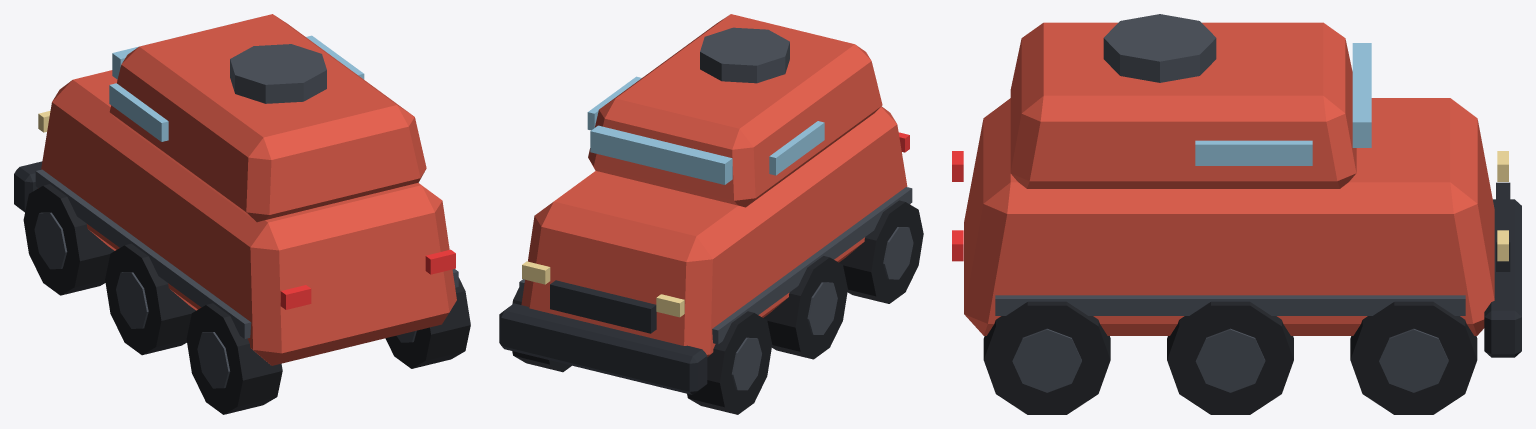
File: armored.glb
The picture shows the model from 3 angles, left to right: view 1: azimuth 30°, elevation 25°; view 2: azimuth 150°, elevation 25°; view 3: azimuth 270°, elevation 25°; orthographic projection. The views are drawn at different scales.
Visible parts, largest first — view 1: Body, Wheel_2L, Wheel_1L, Wheel_0L, Wheel_2R; view 2: Body, Wheel_2L, Wheel_1L, Wheel_0L, Wheel_0R; view 3: Body, Wheel_0R, Wheel_2R, Wheel_1R.
Part boxes in pixels (x1,y1,x2,y2): Body: (14, 14, 458, 365); Wheel_2L: (186, 303, 282, 414); Wheel_1L: (105, 243, 195, 355); Wheel_0L: (23, 184, 114, 295); Wheel_2R: (385, 277, 470, 368); Body: (499, 14, 912, 394); Wheel_2L: (839, 200, 923, 303); Wheel_1L: (763, 256, 847, 359); Wheel_0L: (687, 311, 772, 414); Wheel_0R: (512, 287, 571, 372); Body: (952, 14, 1521, 357); Wheel_0R: (1350, 301, 1477, 414); Wheel_2R: (983, 301, 1110, 414); Wheel_1R: (1167, 301, 1293, 414).
Size of the model in its own units: 1.28 by 1.48 by 2.42.
1 material, 1 textured.
